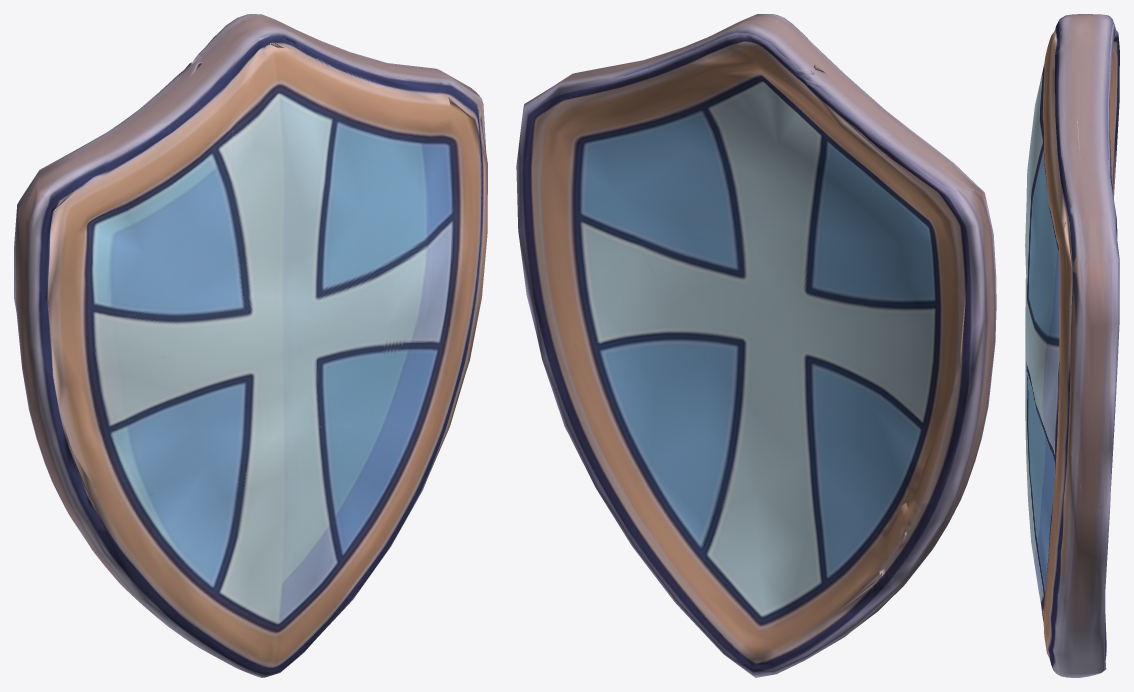
Rendered from Shield.fbx.
3 renders of one model, left to right at view 1: azimuth 30°, elevation 25°; view 2: azimuth 150°, elevation 25°; view 3: azimuth 270°, elevation 25°, orthographic.
Visible parts, largest first — view 1: Mesh_0; view 2: Mesh_0; view 3: Mesh_0.
Part boxes in pixels (x1=…): Mesh_0: x1=14, y1=14, x2=487, y2=677; Mesh_0: x1=516, y1=14, x2=996, y2=677; Mesh_0: x1=1025, y1=14, x2=1119, y2=677.
Size of the model in its own units: 141 by 189 by 24.72.
1 material, 1 textured.
